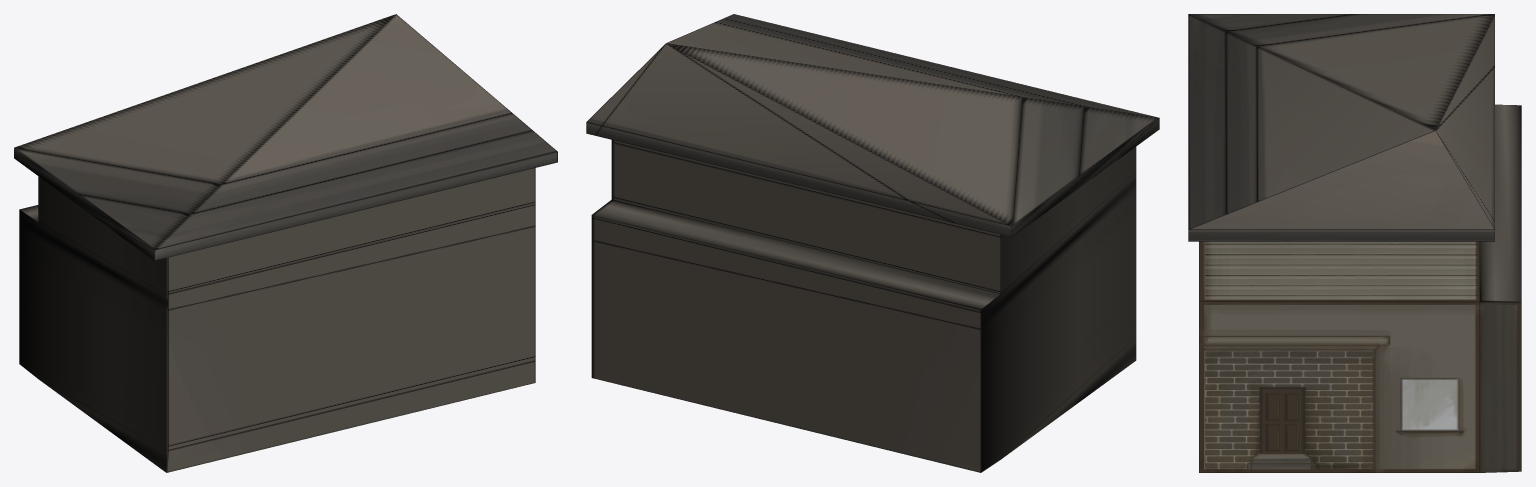
File: building_1.fbx
The picture shows the model from 3 angles, left to right: view 1: azimuth 30°, elevation 25°; view 2: azimuth 150°, elevation 25°; view 3: azimuth 270°, elevation 25°; orthographic projection. The views are drawn at different scales.
Parts seen in each view (by area): view 1: polySurface1; view 2: polySurface1; view 3: polySurface1.
Part boxes in pixels (x1,y1,x2,y2): polySurface1: (14,14,557,472); polySurface1: (586,14,1159,472); polySurface1: (1188,14,1521,472).
Bounding box in the file's own units: 14.34 × 10.1 × 9.37.
1 material, 1 textured.
